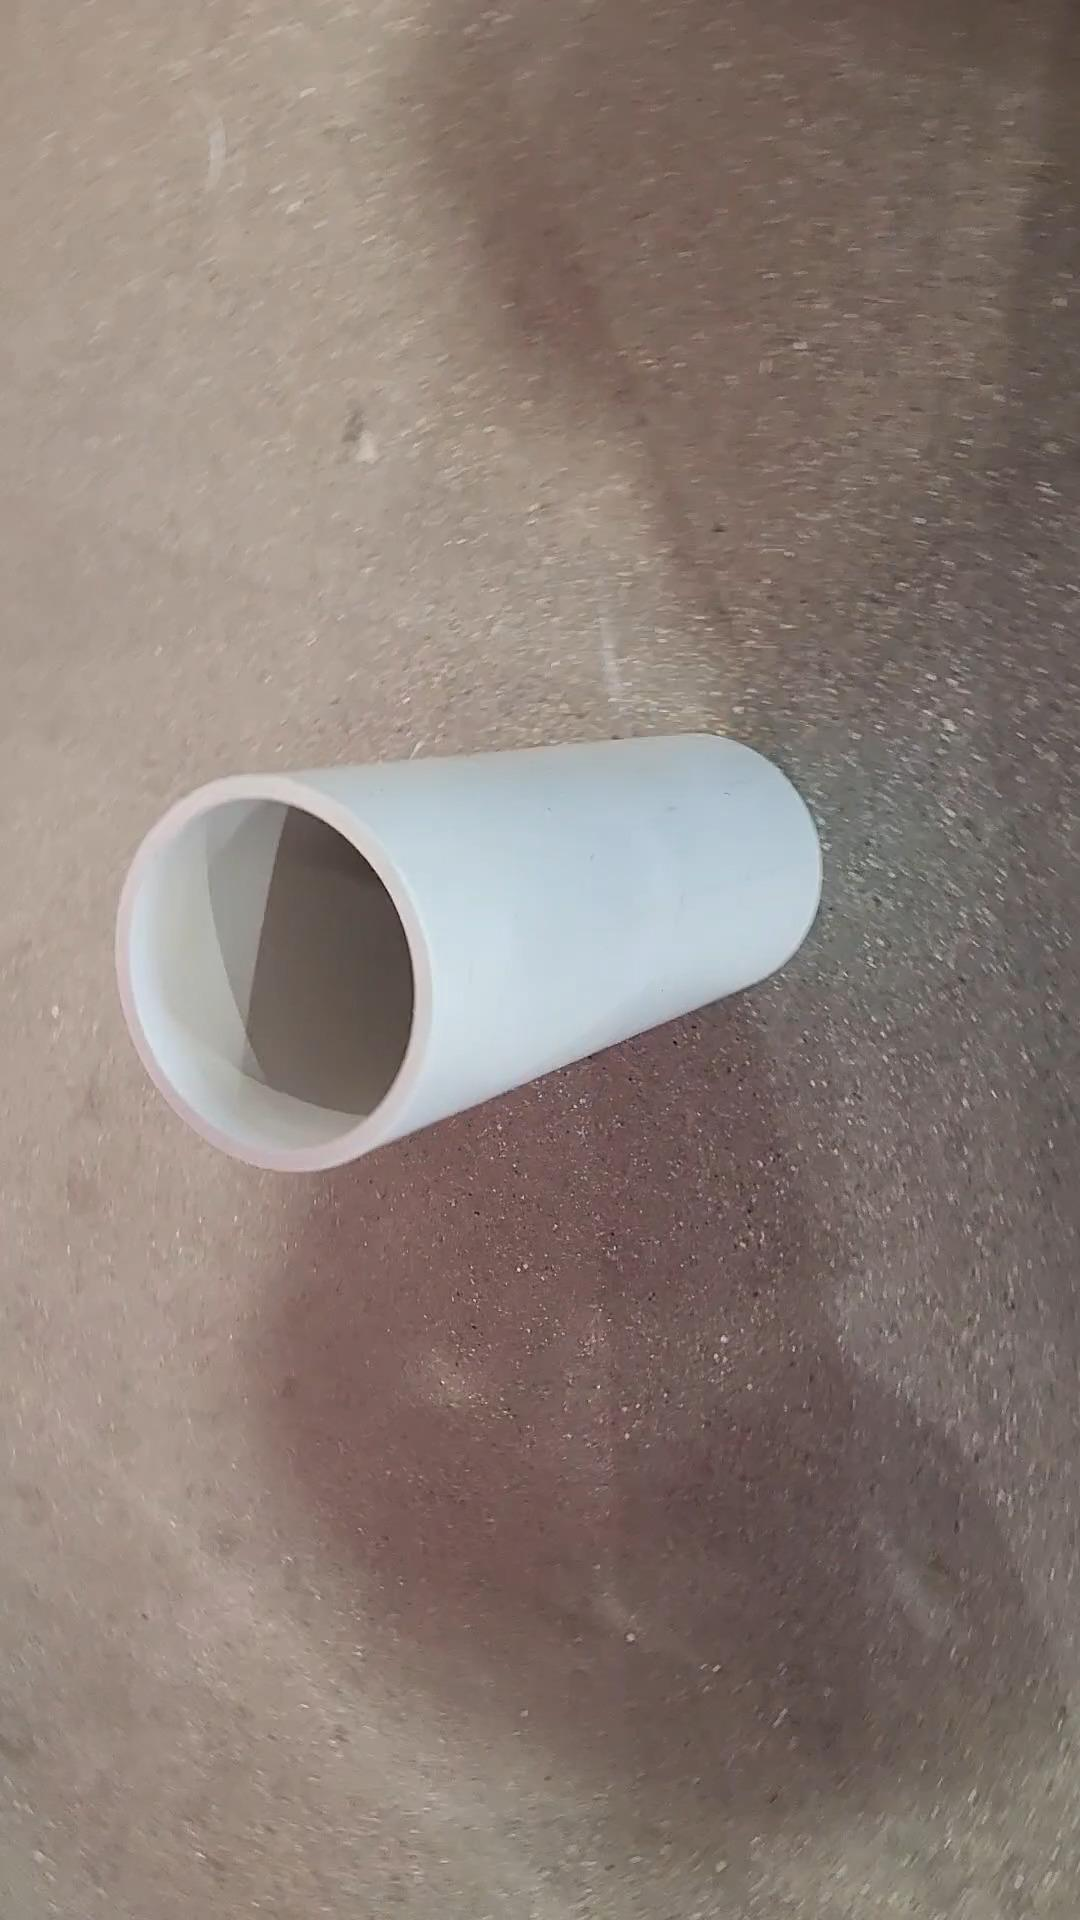coral: (117, 728, 825, 1170)
